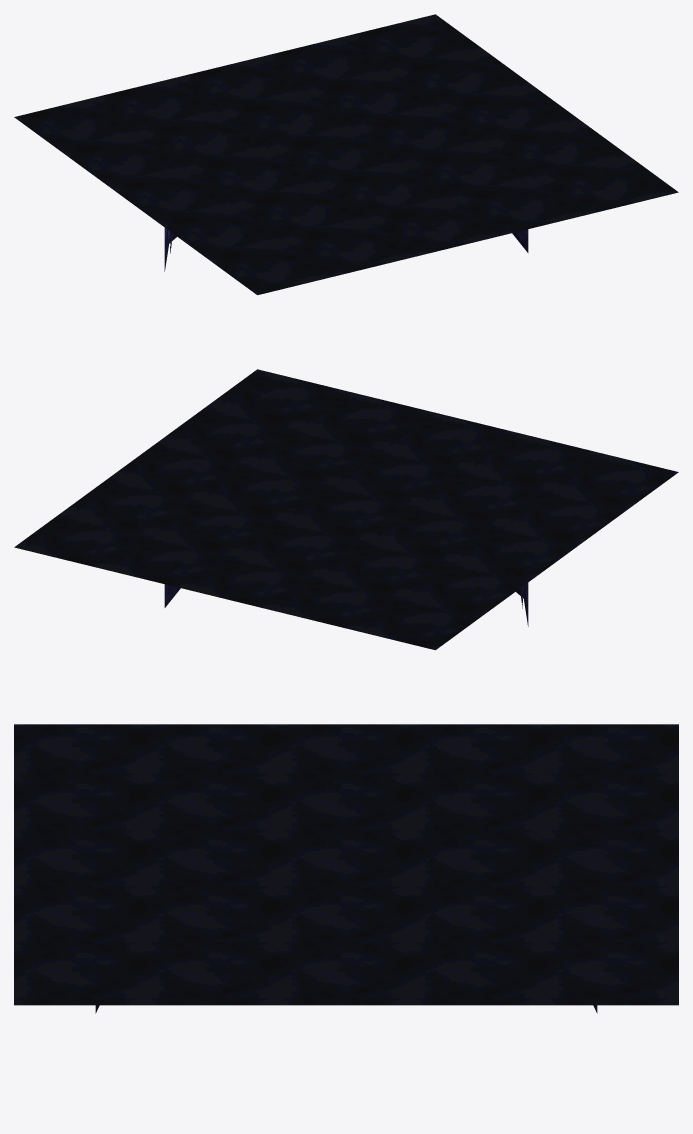
The model's file is INST_EKH_SKYBOX.fbx.
3 views of the same model, one above another, from view 1: azimuth 30°, elevation 25°; view 2: azimuth 150°, elevation 25°; view 3: azimuth 270°, elevation 25° (orthographic). The views are drawn at different scales.
Parts seen in each view (by area): view 1: INST_EKH_SKYBOX; view 2: INST_EKH_SKYBOX; view 3: INST_EKH_SKYBOX.
Part boxes in pixels (bbox=[...]): INST_EKH_SKYBOX: bbox=[14, 14, 678, 295]; INST_EKH_SKYBOX: bbox=[14, 369, 678, 650]; INST_EKH_SKYBOX: bbox=[14, 724, 678, 1013].
Bounding box in the file's own units: 163500 × 40399 × 163500.
5 materials, 5 textured.
